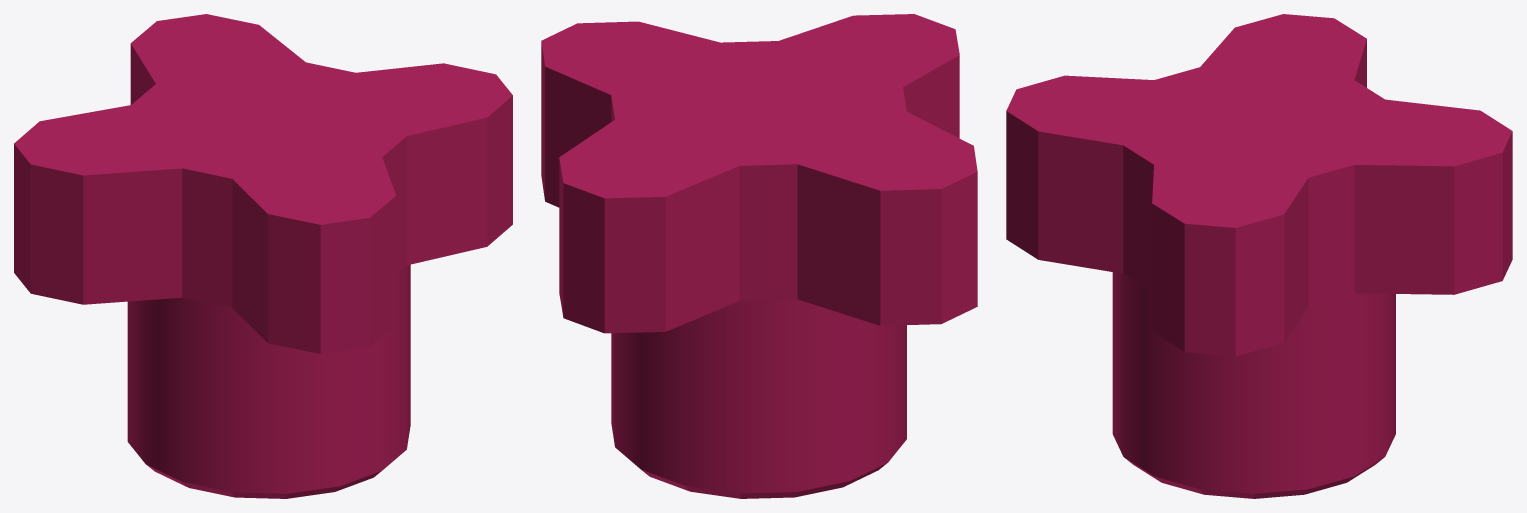
Rendered from Part_Flower_simple.FBX.
3 views of the same model, side by side, from view 1: azimuth 30°, elevation 25°; view 2: azimuth 150°, elevation 25°; view 3: azimuth 270°, elevation 25° (orthographic). The views are drawn at different scales.
Visible parts, largest first — view 1: Part_Flower_simple; view 2: Part_Flower_simple; view 3: Part_Flower_simple.
Boxes of the visible parts, x1,y1,x2,y2 form: Part_Flower_simple: (14, 14, 512, 498); Part_Flower_simple: (541, 14, 977, 498); Part_Flower_simple: (1006, 14, 1512, 498).
Bounding box in the file's own units: 143 × 100 × 143.
